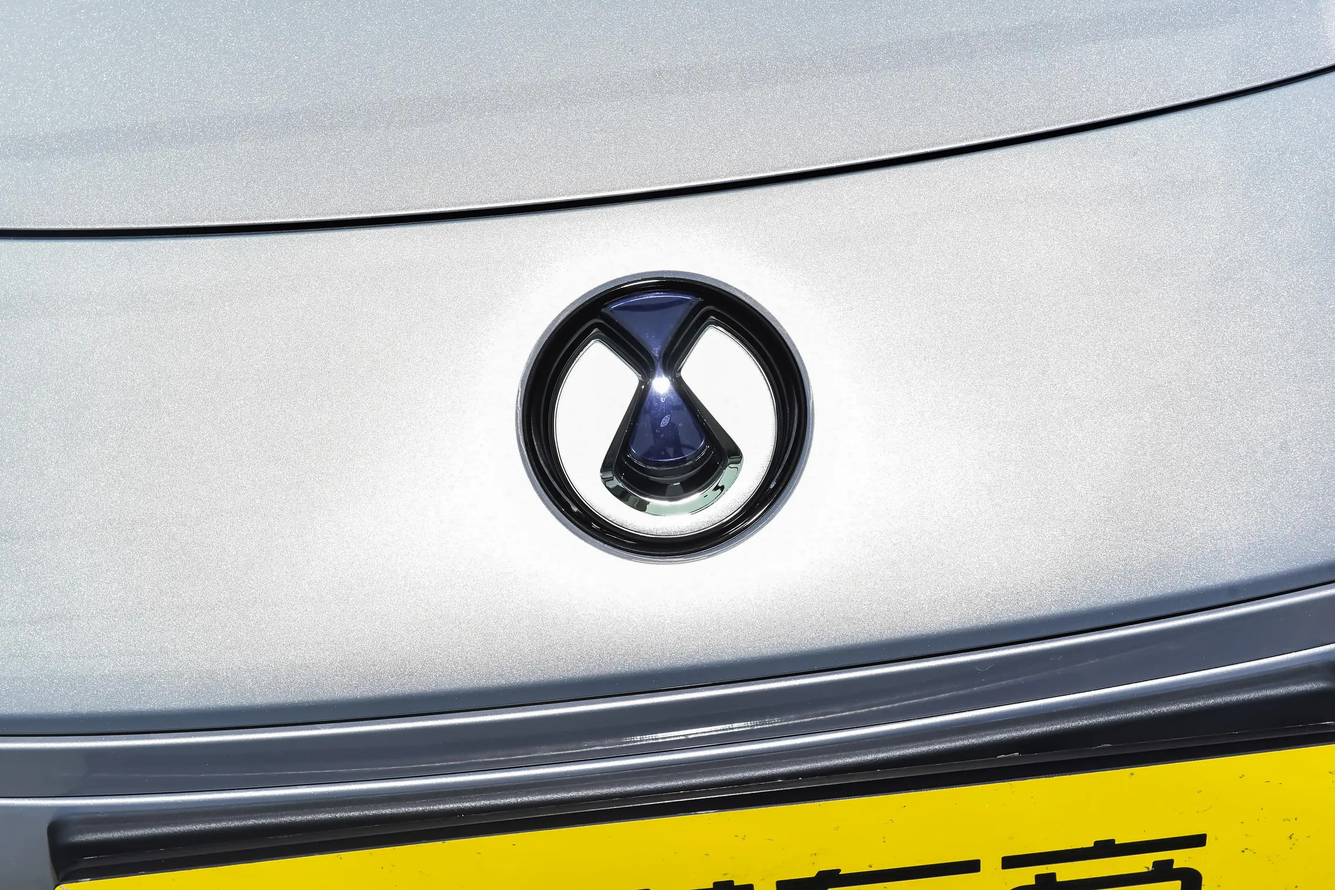DENZA: (555, 327, 774, 536)
